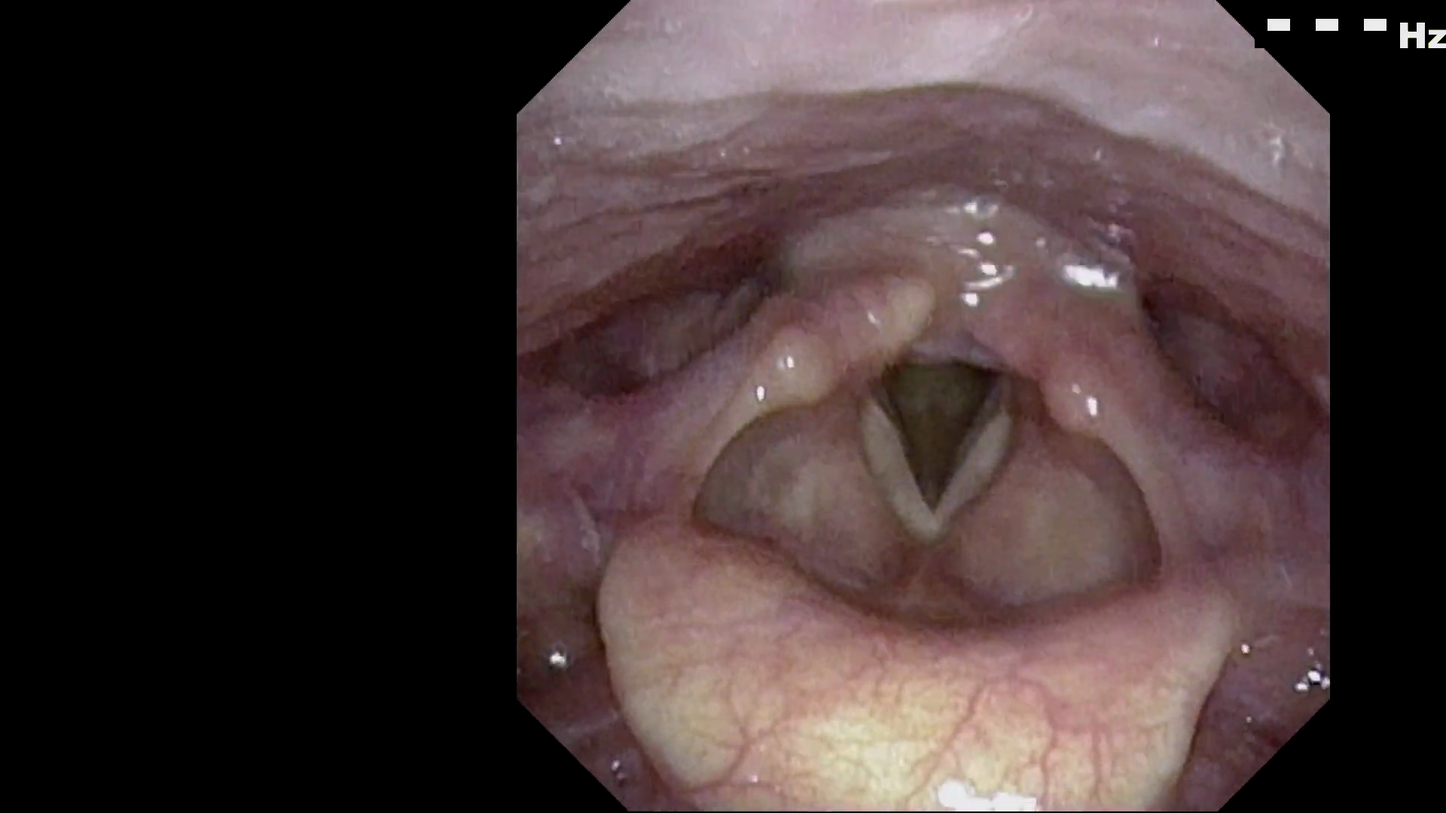epiglottis: (595, 524, 1226, 766)
trachea: (862, 356, 1041, 581)
